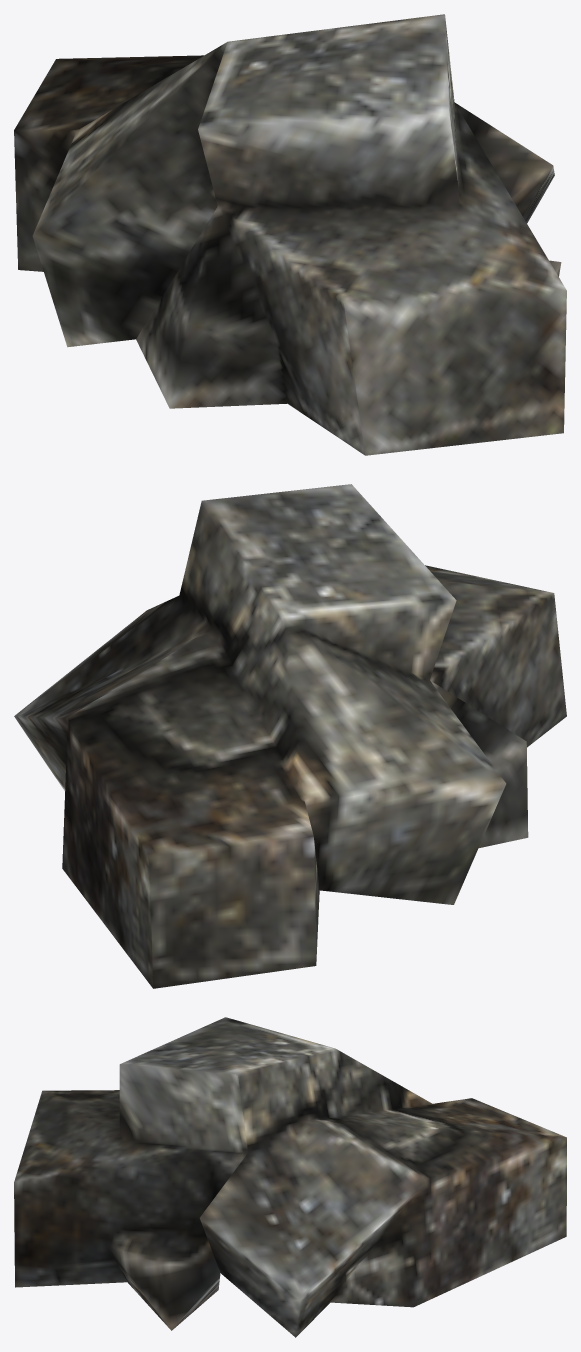
The model's file is Brick3_LOD1.fbx.
The picture shows the model from 3 angles, top to bottom: view 1: azimuth 30°, elevation 25°; view 2: azimuth 150°, elevation 25°; view 3: azimuth 270°, elevation 25°; orthographic projection. The views are drawn at different scales.
Visible parts, largest first — view 1: Brick_plates_group_150tris_Group57691; view 2: Brick_plates_group_150tris_Group57691; view 3: Brick_plates_group_150tris_Group57691.
Boxes of the visible parts, box(x1,y1,x2,y2) form: Brick_plates_group_150tris_Group57691: box(14, 14, 566, 455); Brick_plates_group_150tris_Group57691: box(14, 484, 566, 988); Brick_plates_group_150tris_Group57691: box(14, 1017, 566, 1337).
Size of the model in its own units: 2.29 by 1.34 by 2.86.
